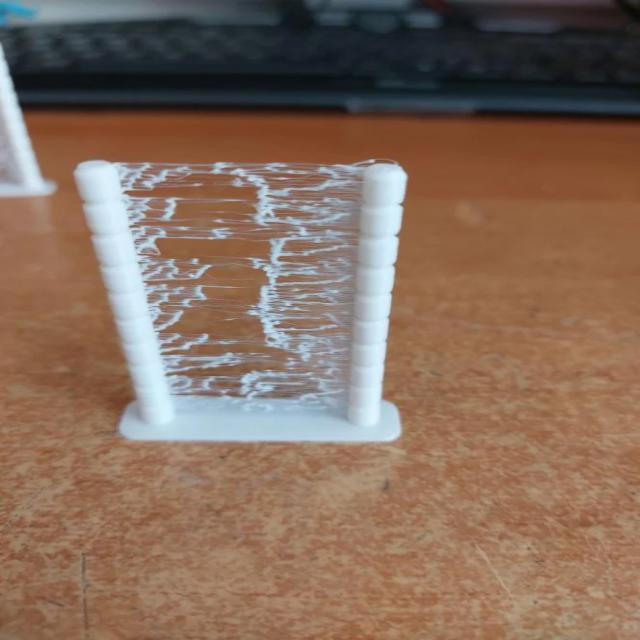Stringing: (120, 162, 367, 414)
